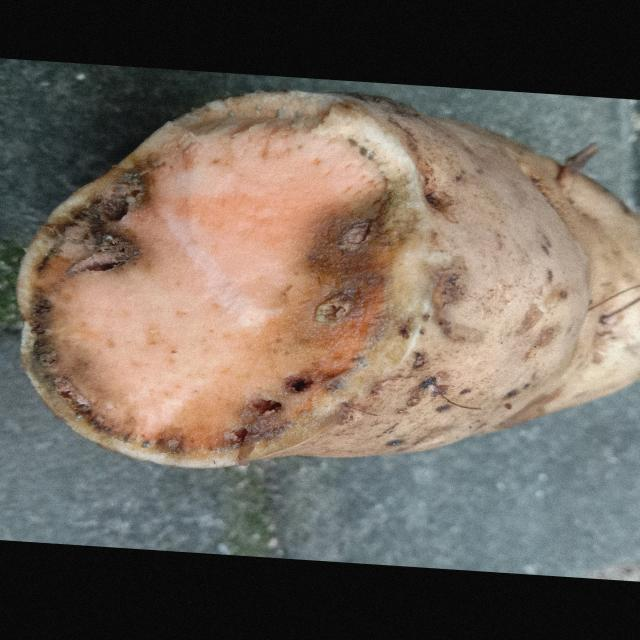Sick Sweet Potato_Tuber Rot: (18, 91, 433, 468)
